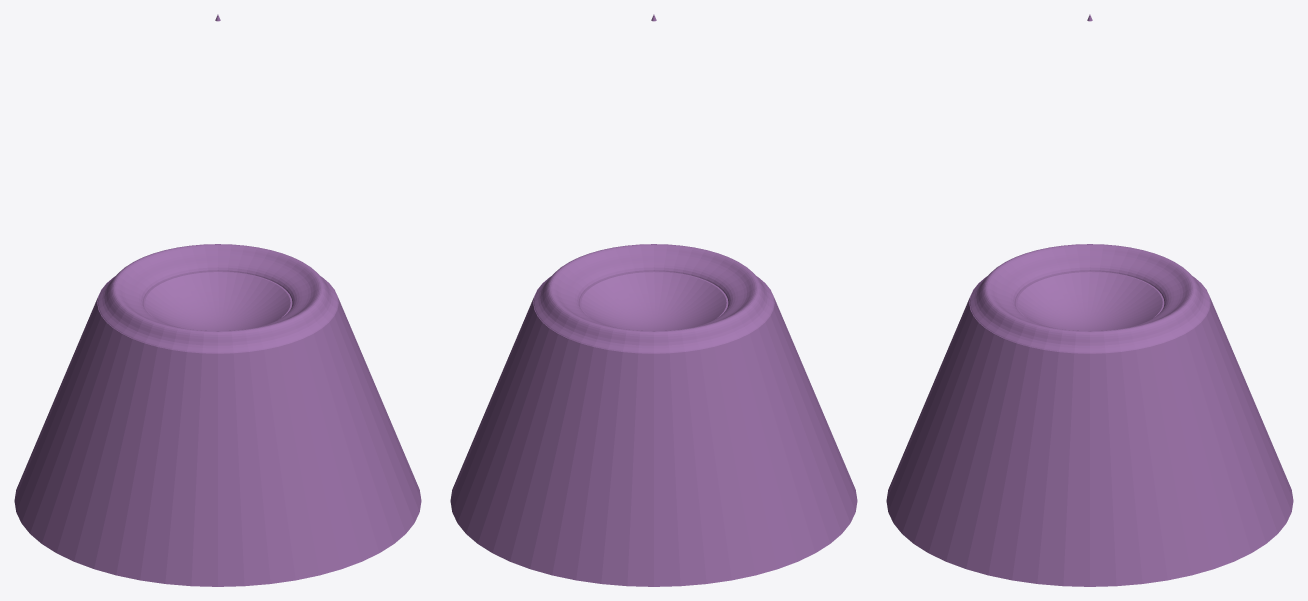
The model's file is crater_with_cone_fixed.glb.
3 views of the same model, side by side, from view 1: azimuth 30°, elevation 25°; view 2: azimuth 150°, elevation 25°; view 3: azimuth 270°, elevation 25° (orthographic).
Parts seen in each view (by area): view 1: Mesh_Mesh_head_geo.001_lambert2SG.001; view 2: Mesh_Mesh_head_geo.001_lambert2SG.001; view 3: Mesh_Mesh_head_geo.001_lambert2SG.001.
Part boxes in pixels (<box>): Mesh_Mesh_head_geo.001_lambert2SG.001: <box>14,14,421,586</box>; Mesh_Mesh_head_geo.001_lambert2SG.001: <box>450,14,857,586</box>; Mesh_Mesh_head_geo.001_lambert2SG.001: <box>886,14,1293,586</box>.
Bounding box in the file's own units: 0.175 × 0.231 × 0.175.
